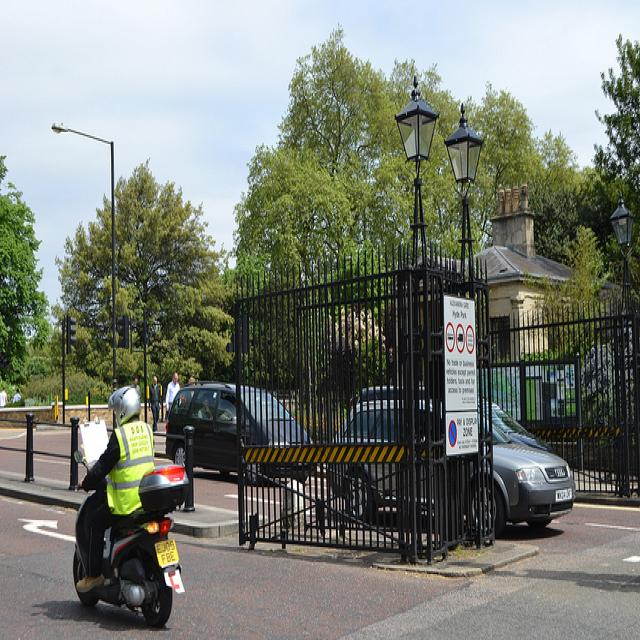motor: (71, 421, 184, 620)
